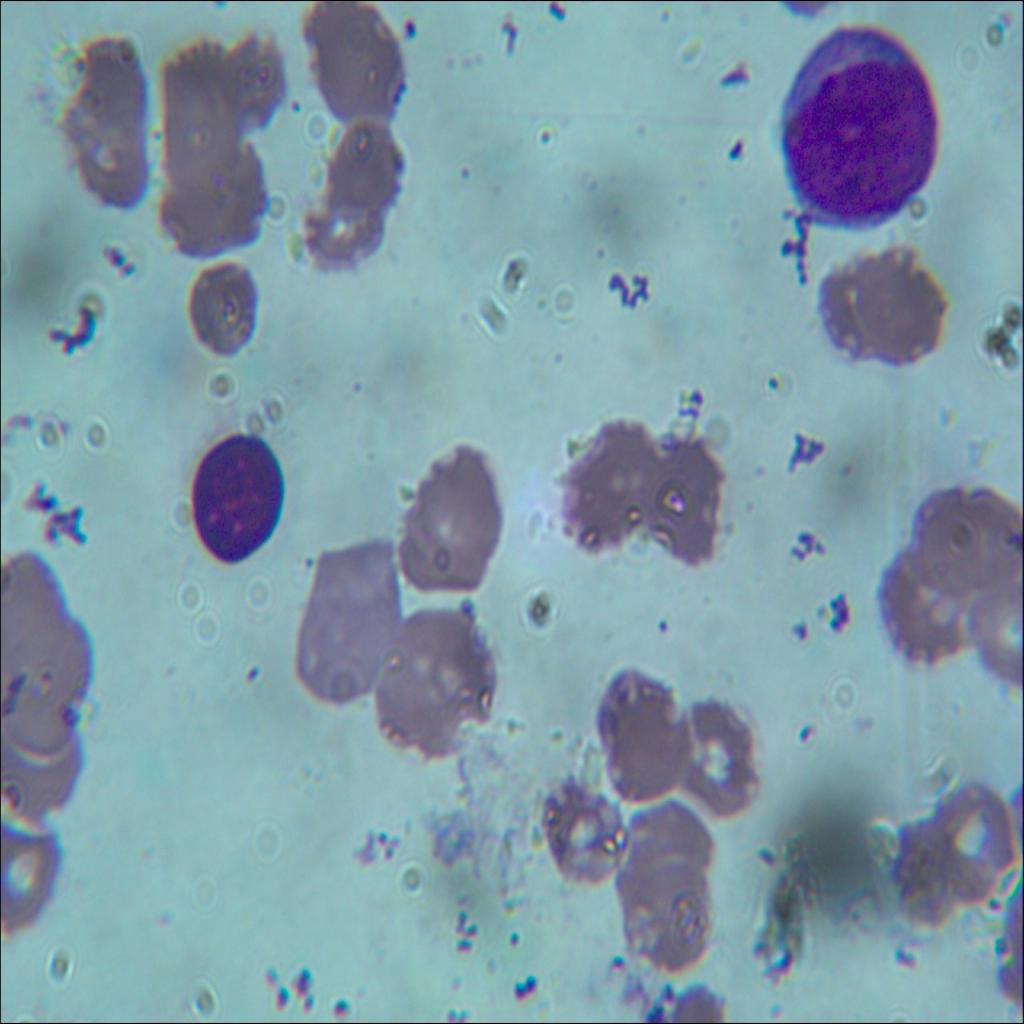Eritrosit: (370, 606, 494, 755), (291, 534, 399, 704), (398, 444, 508, 592), (822, 244, 943, 369), (909, 488, 1023, 602), (306, 1, 406, 129), (600, 666, 690, 805), (558, 418, 658, 541), (871, 538, 966, 664), (669, 698, 763, 818), (163, 41, 244, 177), (166, 150, 266, 257), (929, 782, 1016, 902), (624, 792, 713, 906), (0, 552, 78, 678), (0, 639, 83, 757), (642, 441, 722, 562), (618, 856, 704, 968), (540, 776, 626, 886), (63, 102, 148, 212), (1, 730, 89, 828), (175, 265, 258, 366), (886, 817, 963, 925), (0, 822, 66, 948), (328, 120, 411, 218), (66, 34, 146, 126), (213, 29, 286, 128), (299, 186, 381, 271), (966, 574, 1023, 686)
Limfoblast: (783, 24, 935, 222), (189, 434, 281, 568)
Platelet: (446, 591, 478, 627), (444, 158, 475, 195), (288, 962, 314, 1002), (328, 994, 355, 1023), (499, 922, 523, 954), (342, 374, 368, 399), (295, 552, 319, 579), (401, 12, 418, 46), (241, 662, 263, 685), (652, 608, 670, 633), (273, 982, 286, 1012), (286, 98, 302, 119)
